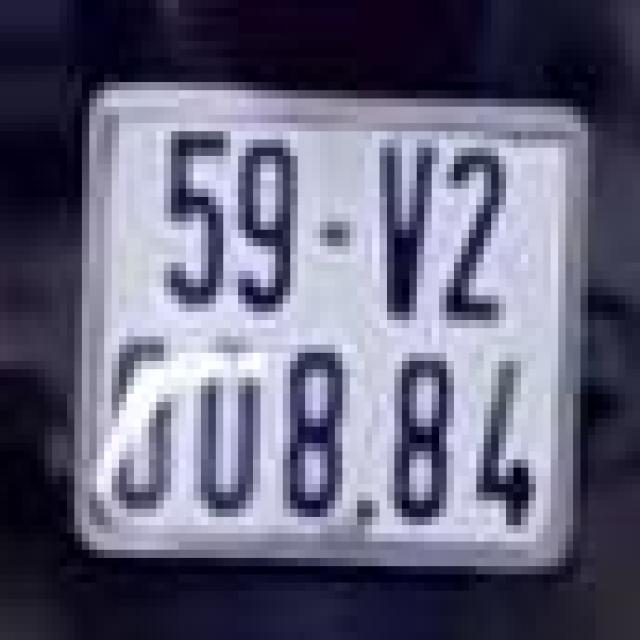0: (96, 328, 178, 517), (193, 328, 268, 525)
2: (443, 136, 517, 332)
4: (473, 357, 547, 537)
5: (156, 115, 231, 312)
8: (383, 340, 458, 538), (279, 341, 354, 521)
9: (234, 131, 302, 320)
V: (368, 127, 443, 324)
